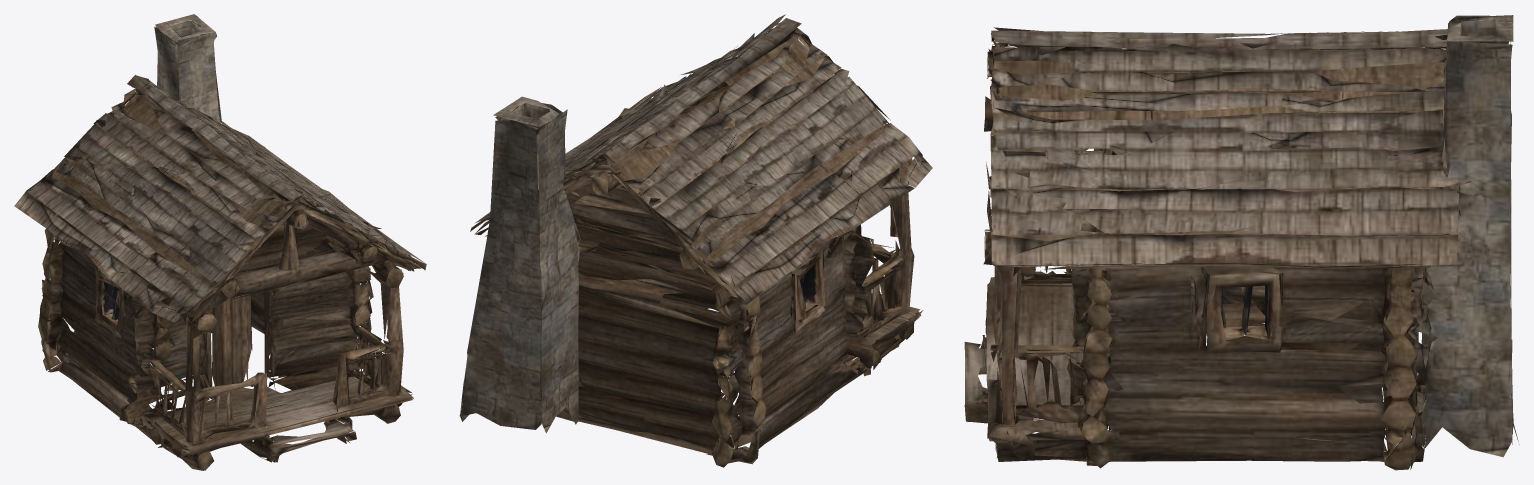
The model's file is wald_huette.glb.
3 renders of one model, left to right at view 1: azimuth 30°, elevation 25°; view 2: azimuth 150°, elevation 25°; view 3: azimuth 270°, elevation 25°, orthographic. The views are drawn at different scales.
Visible parts, largest first — view 1: Prop; view 2: Prop; view 3: Prop.
Part boxes in pixels (x1=…): Prop: x1=14, y1=14, x2=426, y2=470; Prop: x1=459, y1=14, x2=932, y2=467; Prop: x1=964, y1=15, x2=1519, y2=470.
Bounding box in the file's own units: 0.9399 × 1.01 × 1.24.
Materials: 1 (1 with a texture image).
